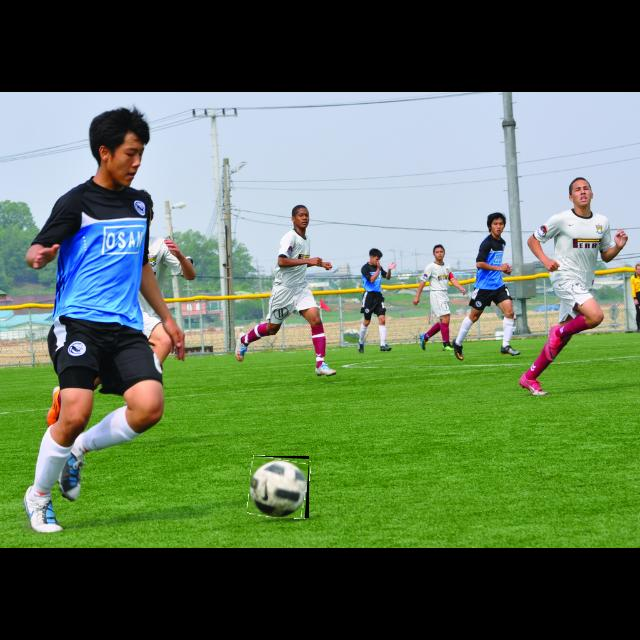Football: (249, 456, 309, 518)
